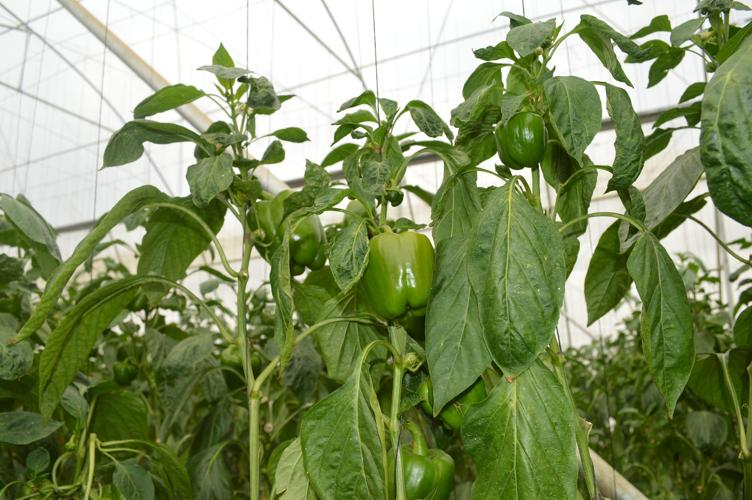BellPepper: (349, 224, 437, 339), (238, 188, 328, 290), (380, 437, 467, 500), (479, 108, 548, 181)
